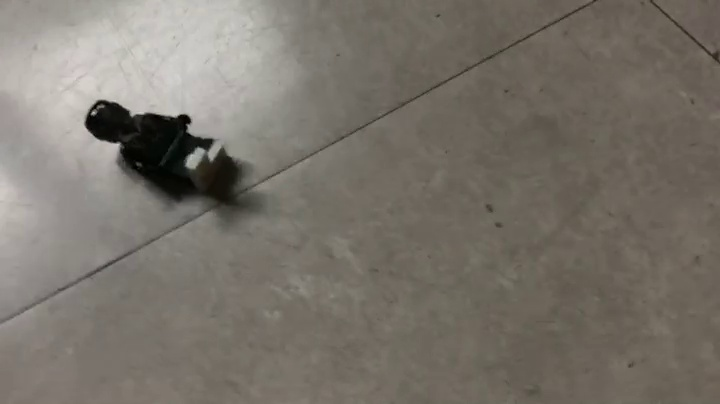people: (83, 98, 242, 203)
